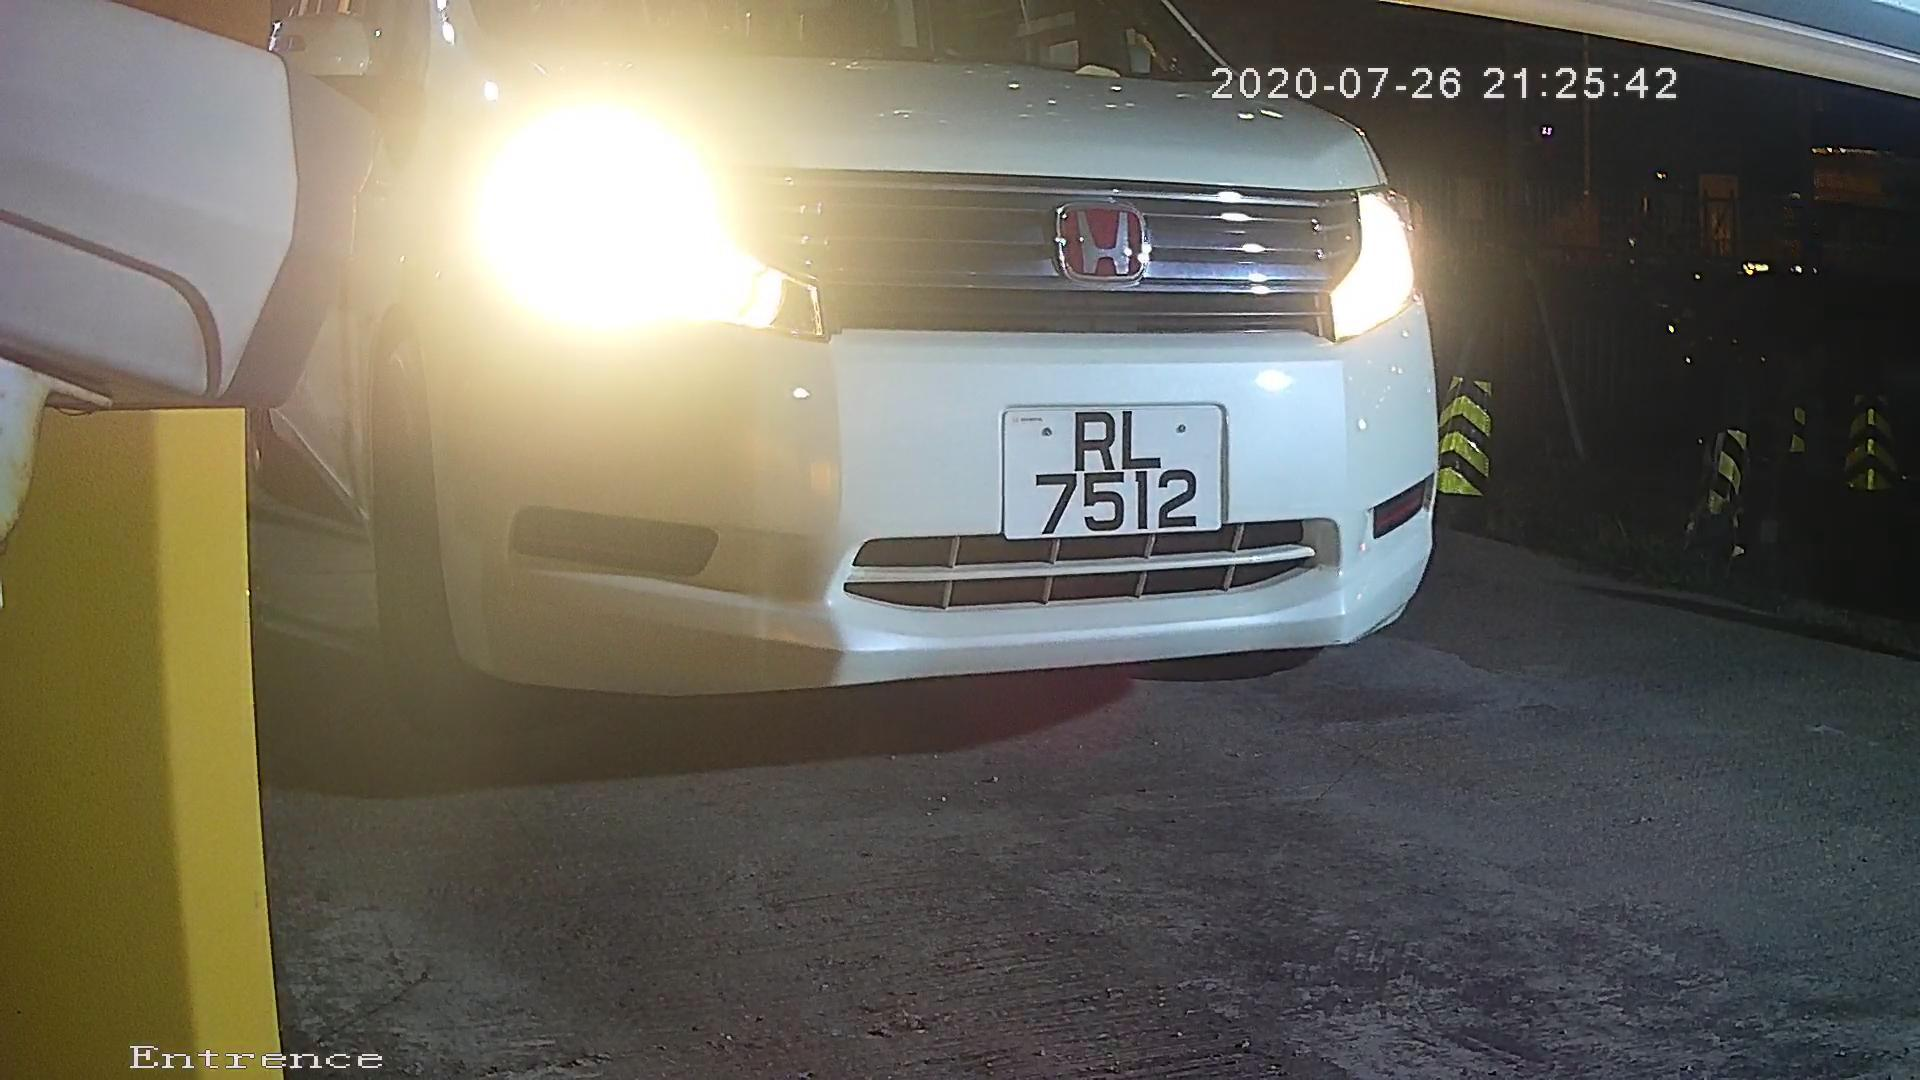Car: (86, 58, 1586, 815)
License Plate: (978, 386, 1243, 560)
